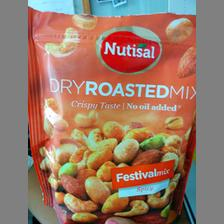Nuss: (27, 5, 195, 223)
